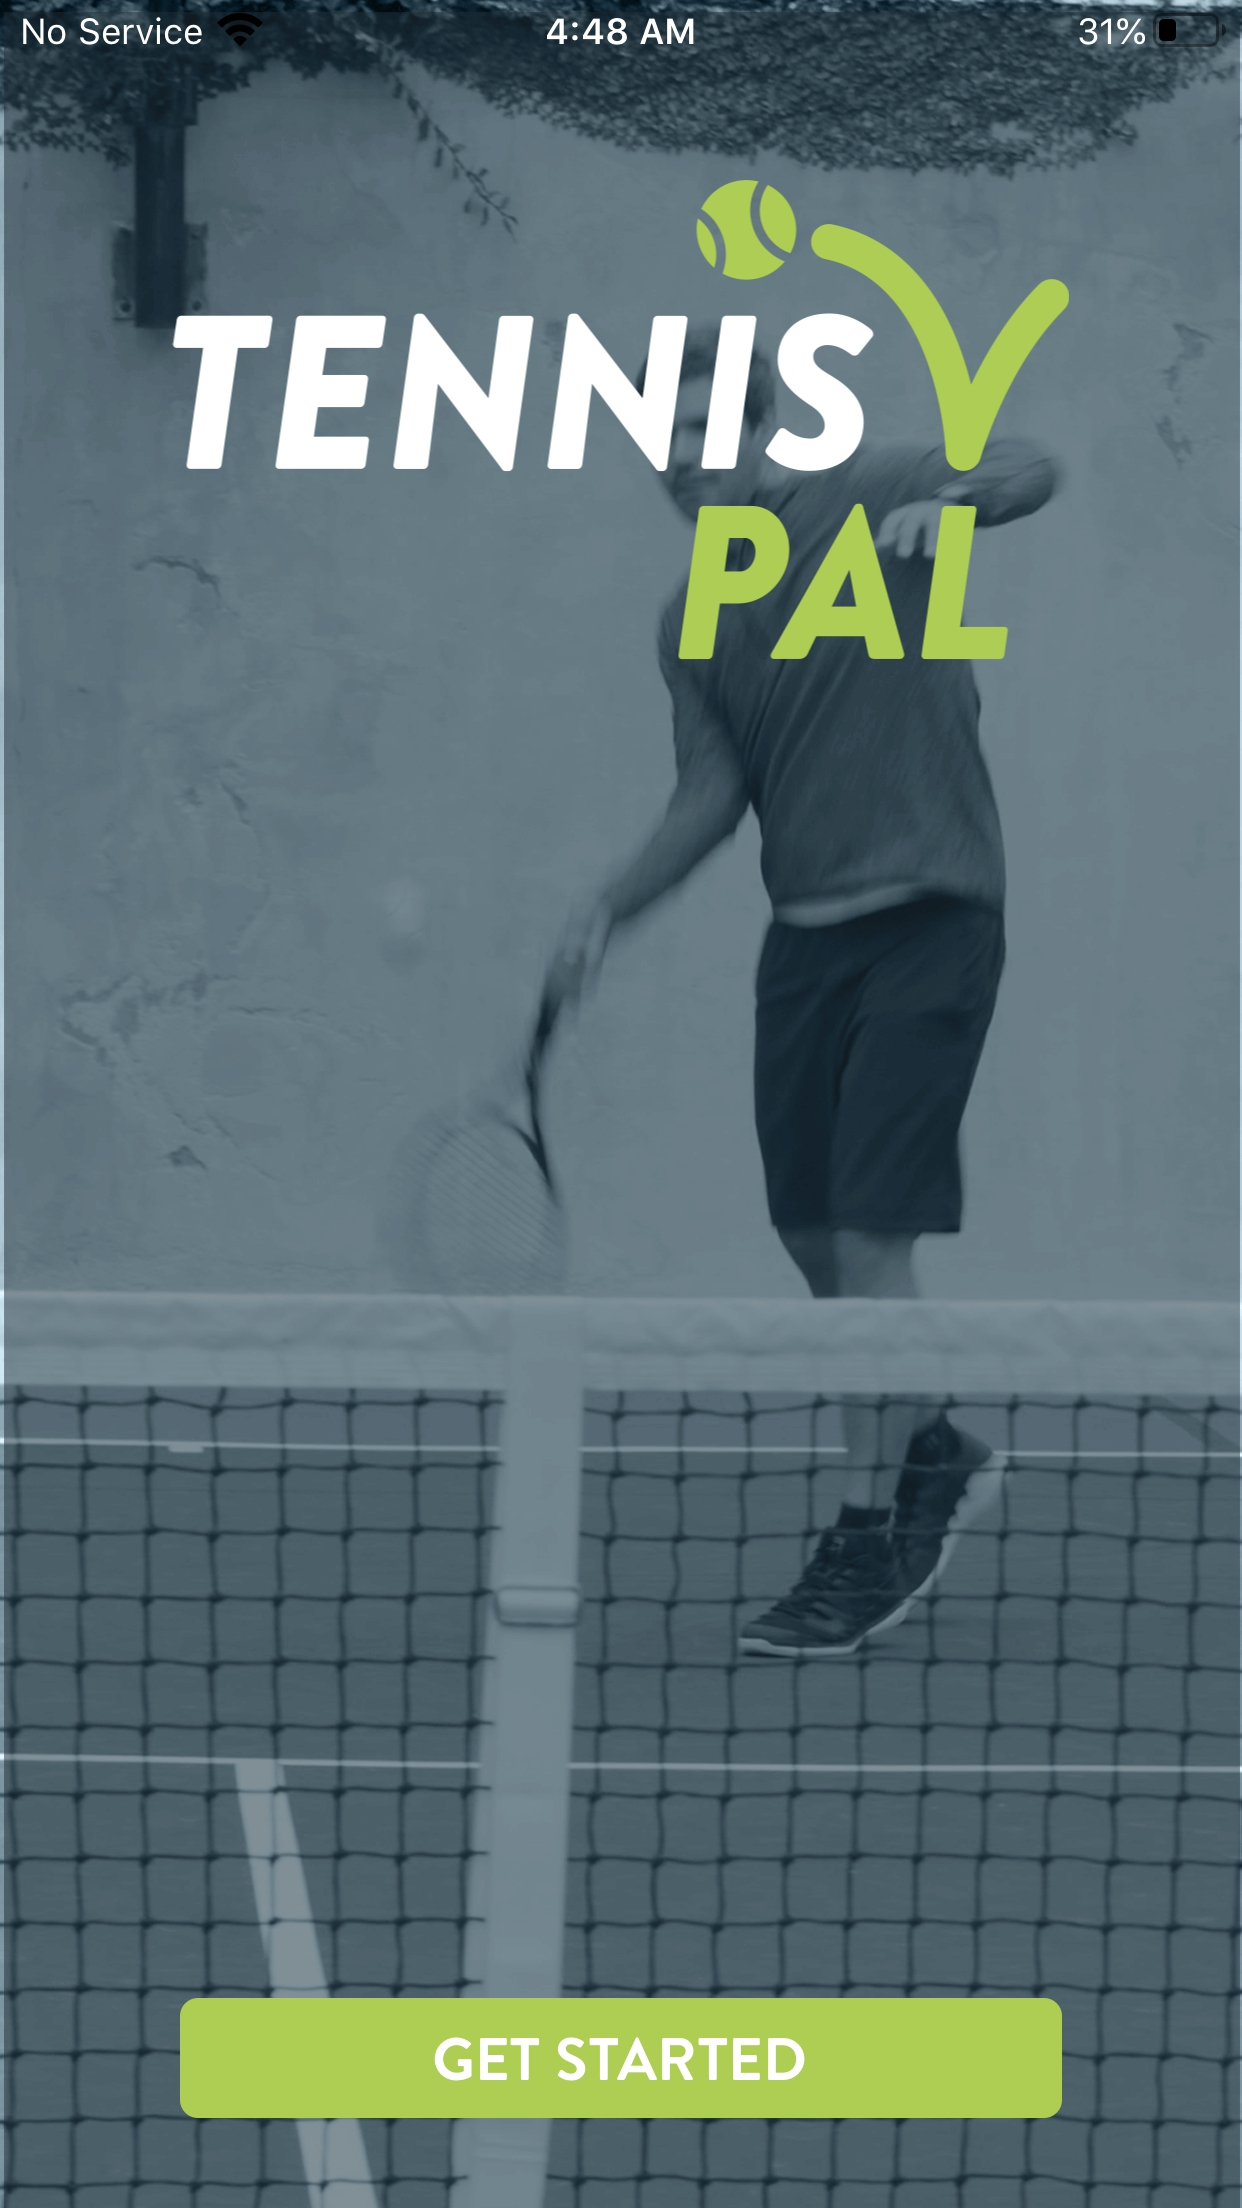BackgroundImage: (2, 2, 1242, 2208)
Image: (173, 180, 1069, 661)
TextButton: (180, 1997, 1062, 2119)
UpperTaskBar: (2, 2, 1242, 47)
